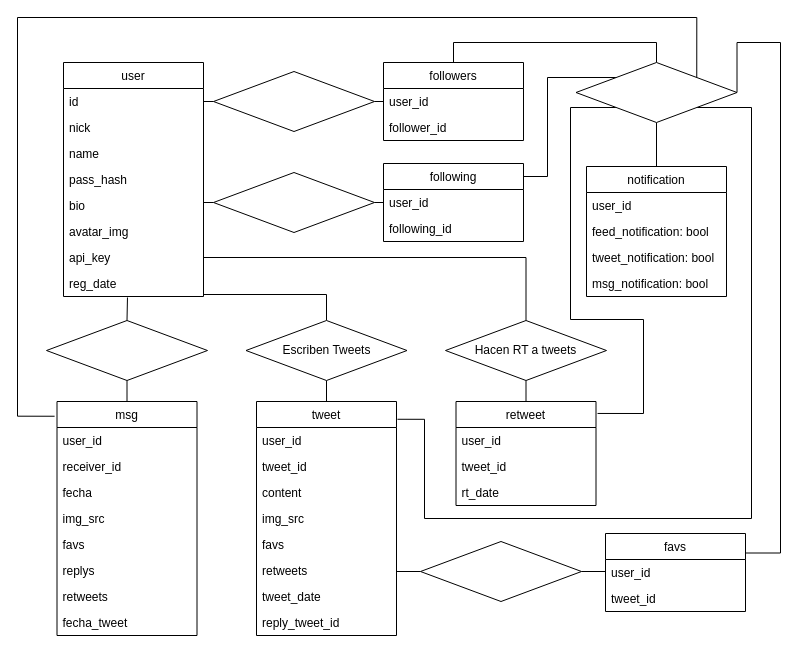
This 799x656 diagram has some shape labels left out. Each missing label, with the centre of its shape:
"Cuando se hace actualiza una notificación" goes at (x=656, y=92).
"dan favoritos a tweets" goes at (x=501, y=571).
"Escriben mensajes" goes at (x=127, y=350).
"Tienen Seguidores" goes at (x=293, y=101).
"Tienen Seguidos" goes at (x=293, y=202).
